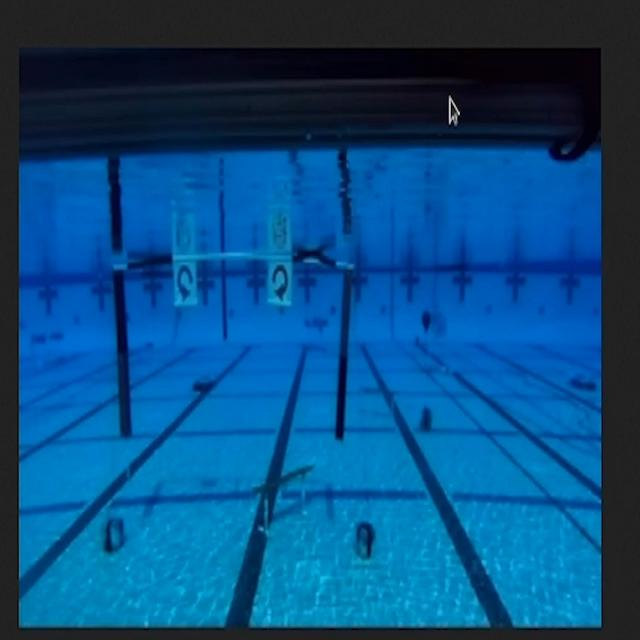Gate: (107, 251, 359, 449)
